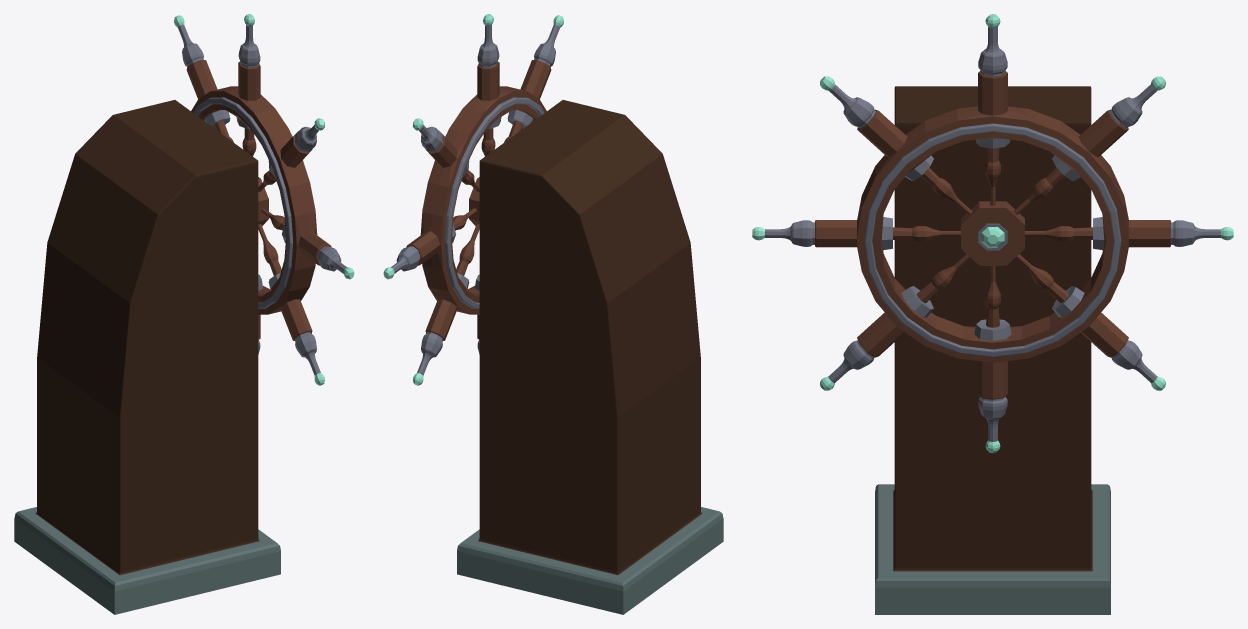
File: LP_P_SteeringWheelFixed.fbx
3 renders of one model, left to right at view 1: azimuth 30°, elevation 25°; view 2: azimuth 150°, elevation 25°; view 3: azimuth 270°, elevation 25°, orthographic. The views are drawn at different scales.
Parts seen in each view (by area): view 1: LP_P_SteeringWheel_Base, LP_P_SteeringWheel_Wheel; view 2: LP_P_SteeringWheel_Base, LP_P_SteeringWheel_Wheel; view 3: LP_P_SteeringWheel_Base, LP_P_SteeringWheel_Wheel.
Boxes of the visible parts, <box> form: LP_P_SteeringWheel_Base: <box>14,100,280,614</box>; LP_P_SteeringWheel_Wheel: <box>174,14,354,385</box>; LP_P_SteeringWheel_Base: <box>457,100,723,614</box>; LP_P_SteeringWheel_Wheel: <box>383,14,563,385</box>; LP_P_SteeringWheel_Base: <box>875,86,1110,614</box>; LP_P_SteeringWheel_Wheel: <box>752,14,1233,452</box>.
Bounding box in the file's own units: 68.91 × 171 × 122.
